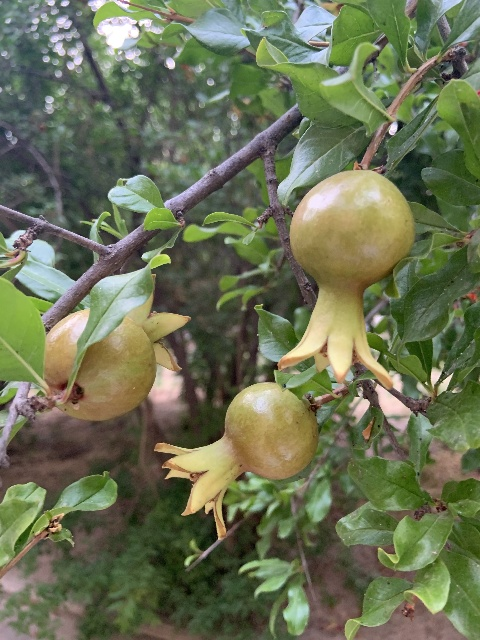early-fruit: (154, 382, 319, 540), (43, 272, 190, 421)
mid-growth: (276, 169, 416, 387)
